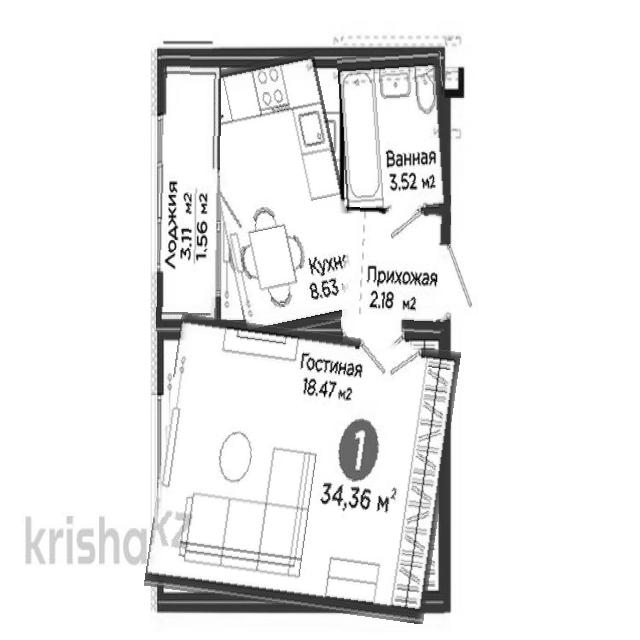balcony: (157, 54, 220, 332)
bathroom: (340, 52, 448, 212)
hallway: (342, 209, 450, 333)
kitchen: (206, 55, 356, 336)
living_room: (153, 322, 453, 615)
